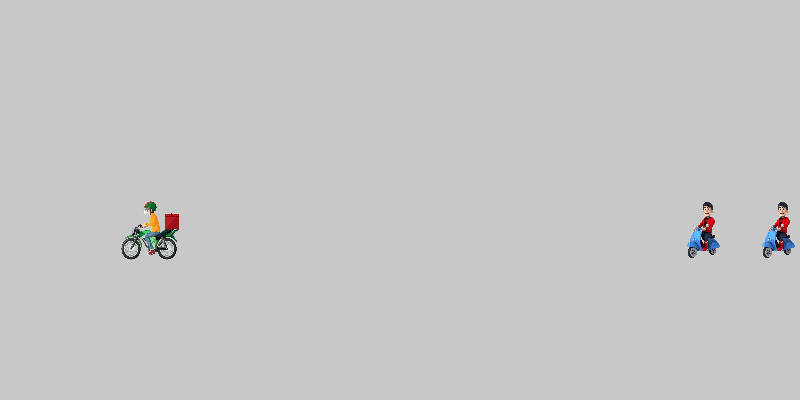helmet: (120, 200, 180, 260)
no_helmet: (675, 200, 735, 260), (750, 200, 800, 260)
